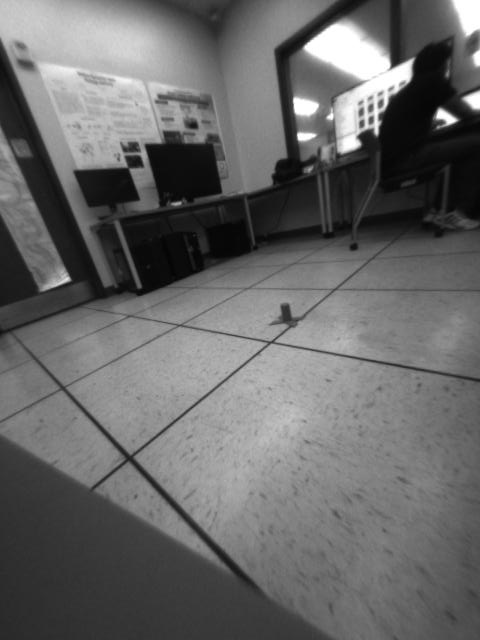X: (269, 301, 307, 330)
